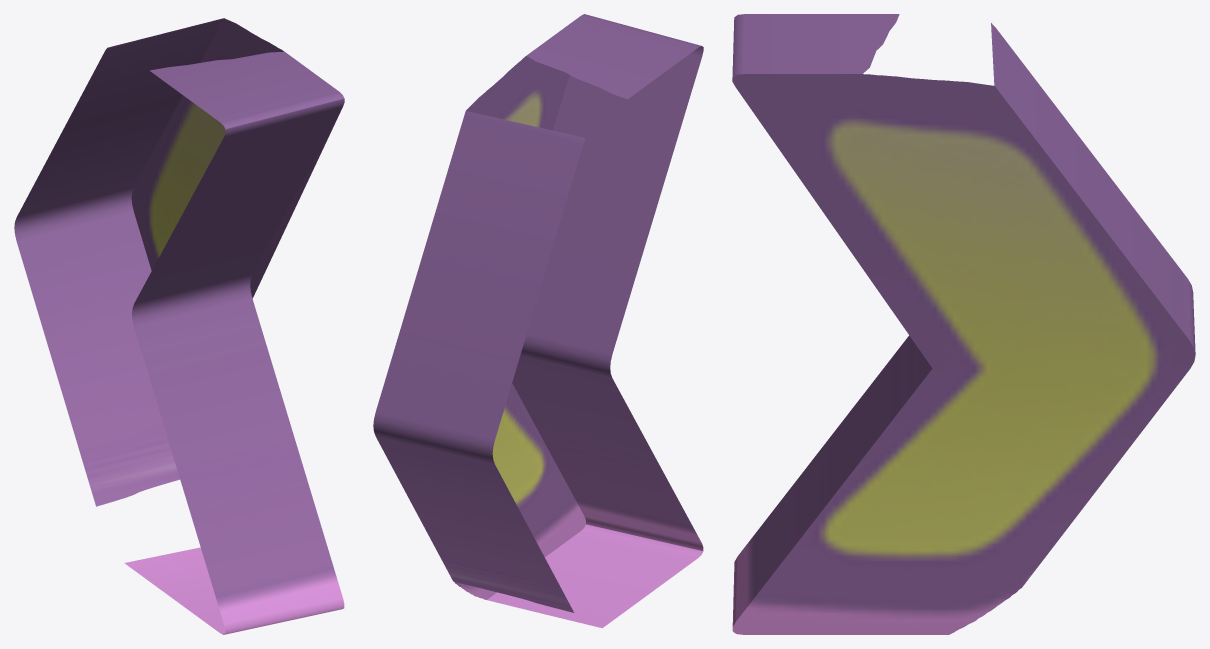
The model's file is Star002.FBX.
The picture shows the model from 3 angles, left to right: view 1: azimuth 30°, elevation 25°; view 2: azimuth 150°, elevation 25°; view 3: azimuth 270°, elevation 25°; orthographic projection. The views are drawn at different scales.
Parts seen in each view (by area): view 1: Star002; view 2: Star002; view 3: Star002.
Boxes of the visible parts, x1,y1,x2,y2 form: Star002: (14,18,344,634); Star002: (373,14,703,628); Star002: (732,14,1195,634).
Size of the model in its own units: 2.05 by 8.52 by 6.38.
